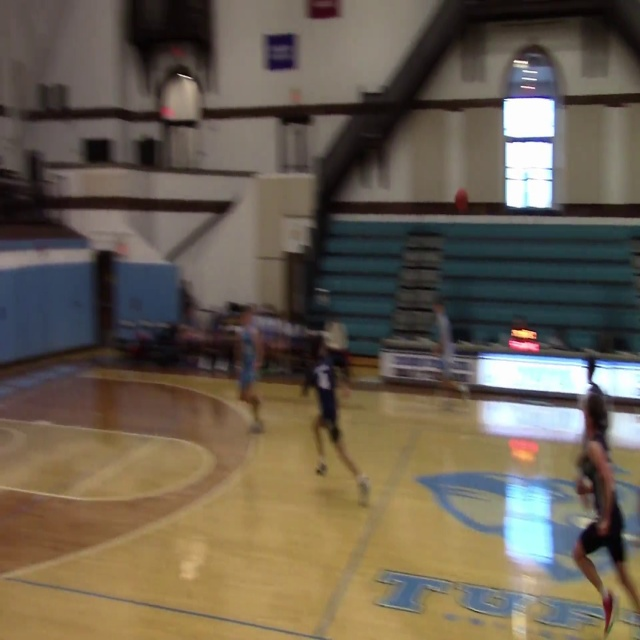Basketball: (454, 188, 469, 212), (576, 476, 593, 495)
